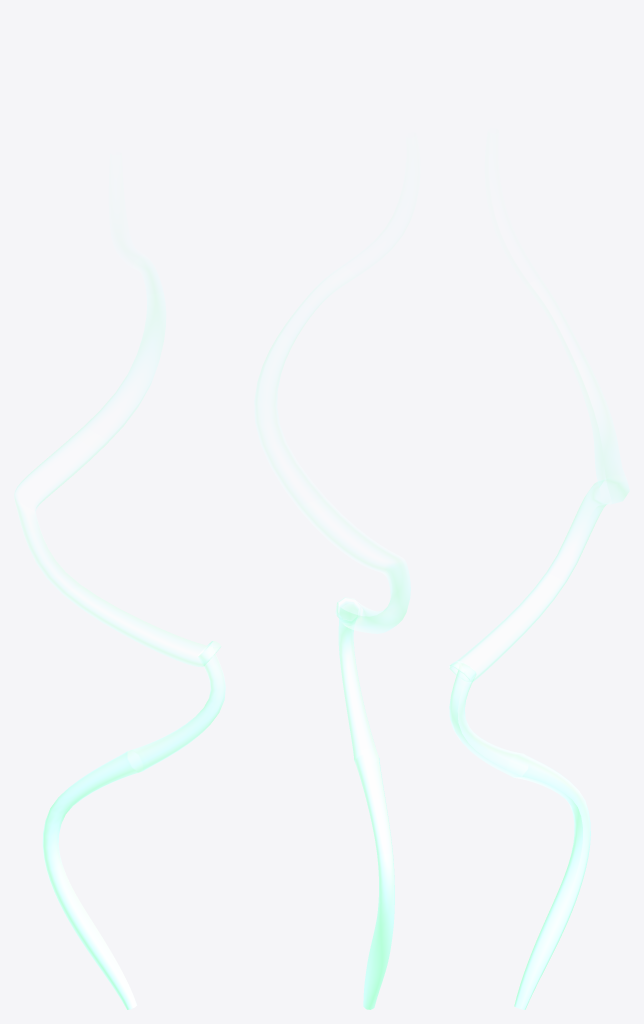
File: strand_e_supply.glb
The picture shows the model from 3 angles, left to right: view 1: azimuth 30°, elevation 25°; view 2: azimuth 150°, elevation 25°; view 3: azimuth 270°, elevation 25°; orthographic projection.
Size of the model in its own units: 1.39 by 9.03 by 1.49.
